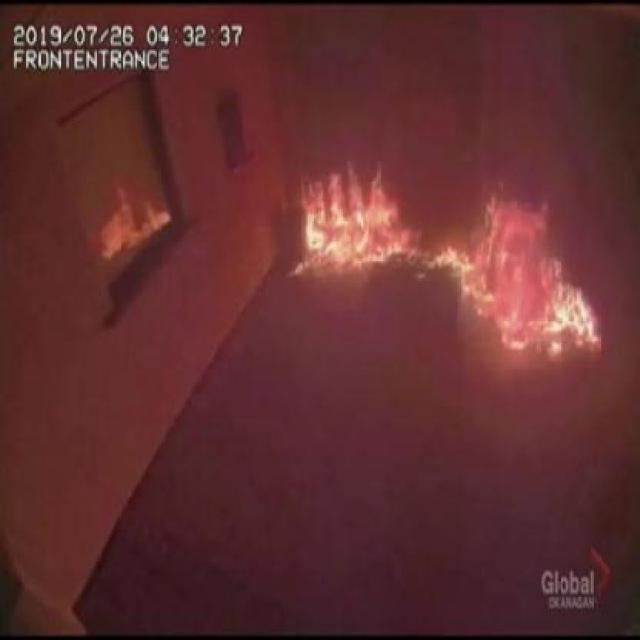Fire: (472, 189, 602, 369), (295, 156, 413, 278), (418, 233, 468, 302), (552, 284, 600, 342)
